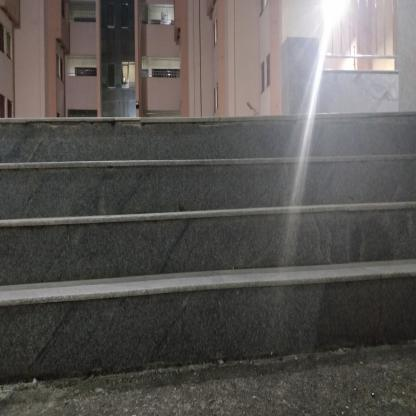stairs: (3, 107, 414, 376)
